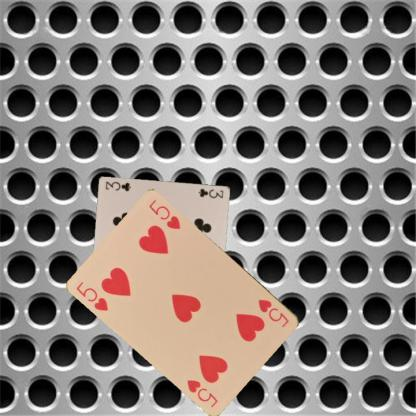3c: (196, 186, 225, 200)
5h: (74, 279, 110, 313), (256, 296, 290, 329)
